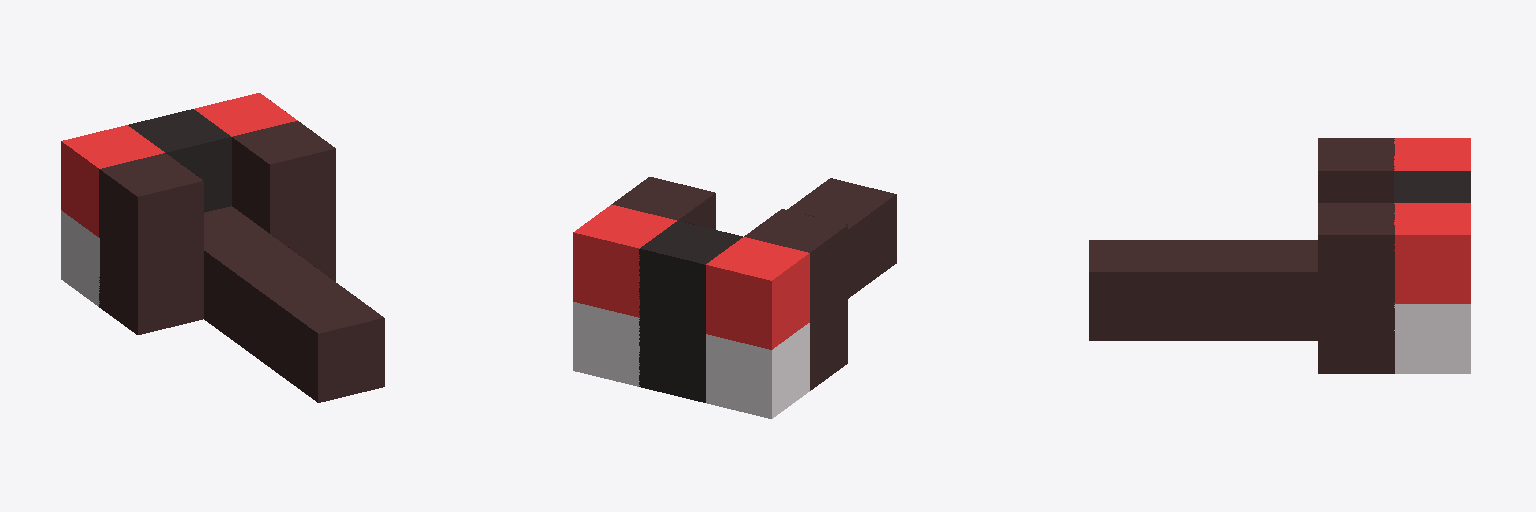
The picture shows the model from 3 angles: view 1: azimuth 30°, elevation 25°; view 2: azimuth 150°, elevation 25°; view 3: azimuth 270°, elevation 25°; orthographic projection.
Parts seen in each view (by area): view 1: VampireBatBody; view 2: VampireBatBody; view 3: VampireBatBody.
Part boxes in pixels (bbox=[...]): VampireBatBody: bbox=[61, 93, 384, 402]; VampireBatBody: bbox=[573, 177, 896, 418]; VampireBatBody: bbox=[1089, 138, 1470, 373].
Bounding box in the file's own units: 3 × 2 × 5.
Materials: 1 (1 with a texture image).